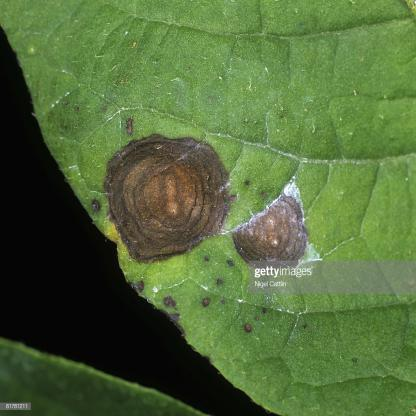Potato leaf late blight: (4, 3, 416, 410)
